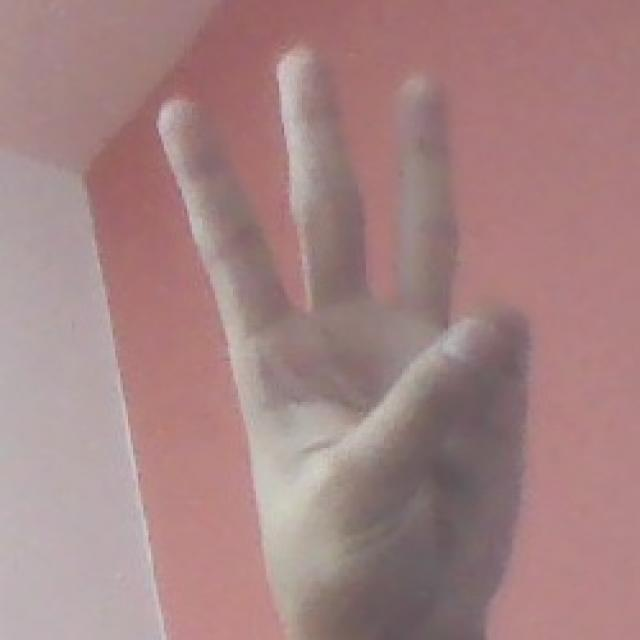Numeric-6: (155, 42, 527, 630)
